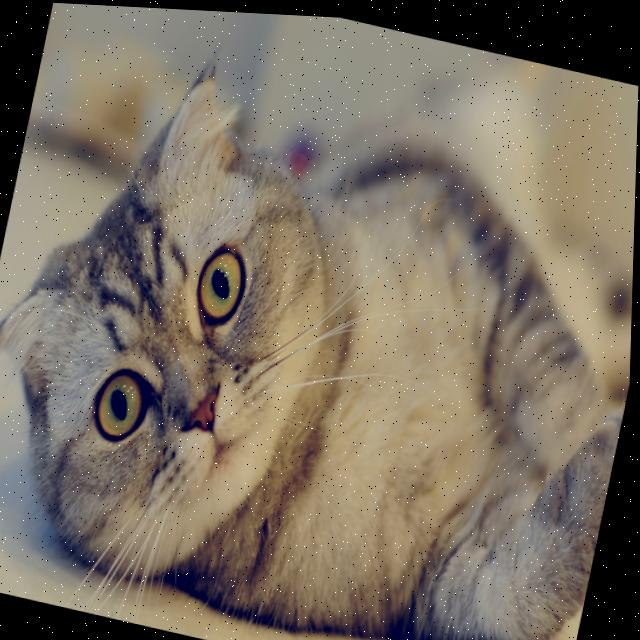Scottish Fold: (0, 12, 640, 640)
